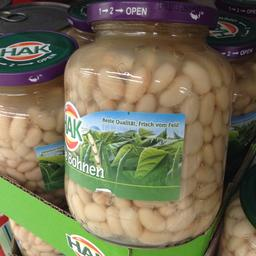beans: (64, 2, 227, 236), (0, 30, 65, 204)
